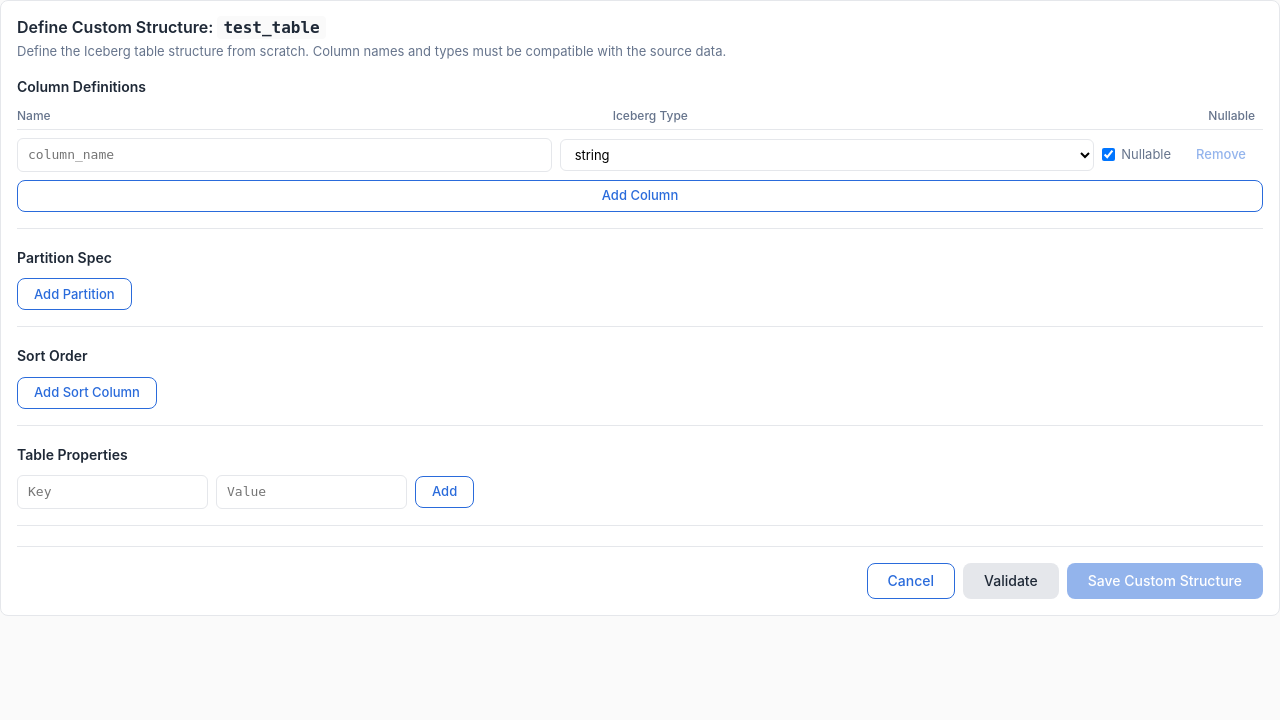
Test: IcebergCustomStructureEditor › adds a new column when Add Column is clicked
Click the button "Add Column" at (640, 196), box [17,180,1263,212]
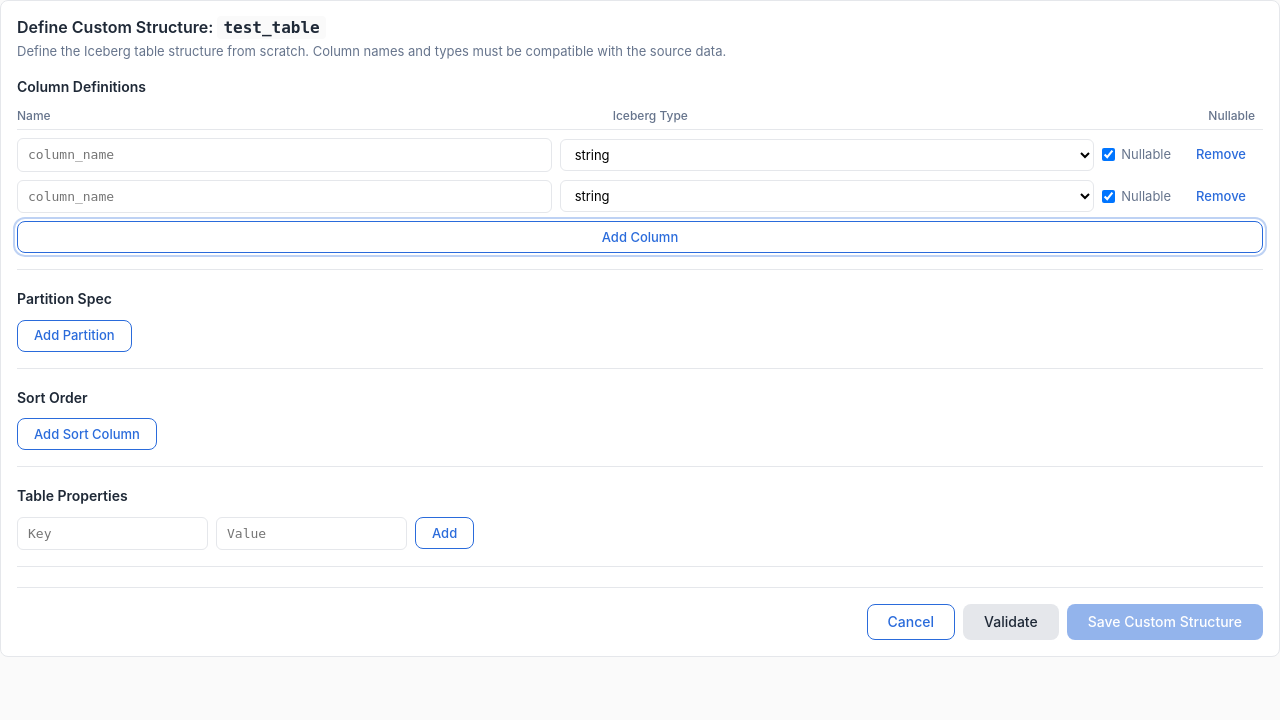
expect the number of fields labelled "column_name" is 2: met, box [17,138,552,172]; [17,180,552,213]
